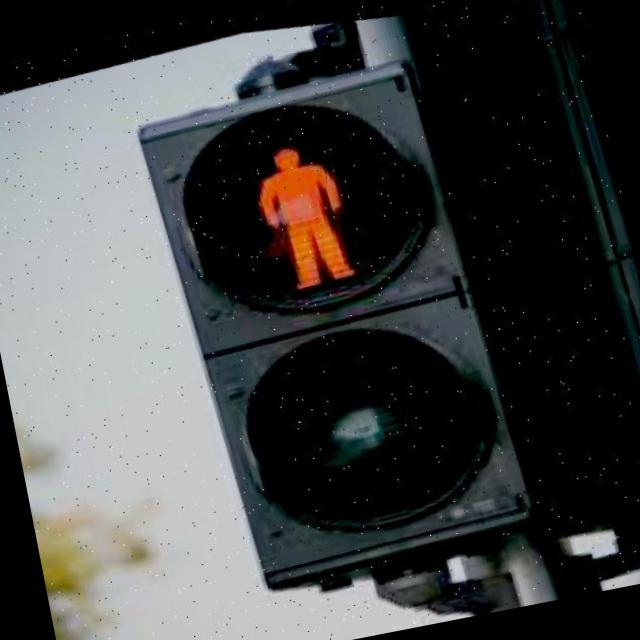red_light: (213, 93, 398, 310)
